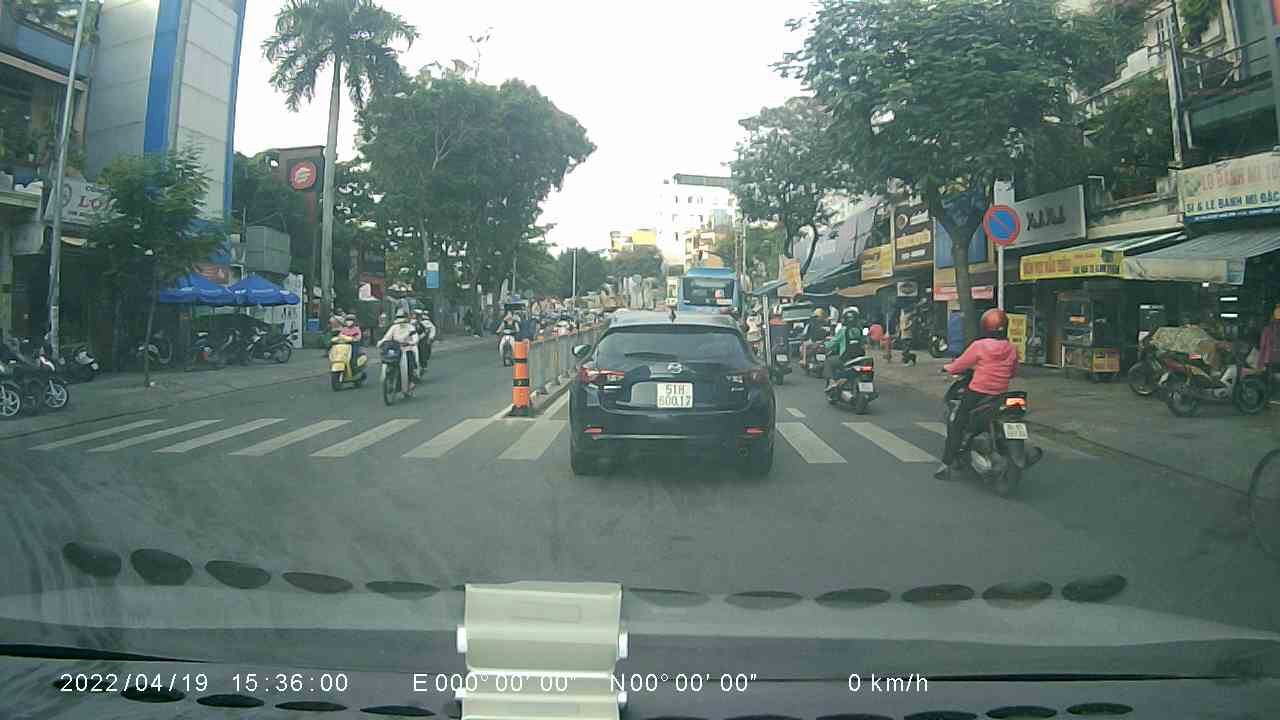Cam do xe: (982, 199, 1027, 243)
